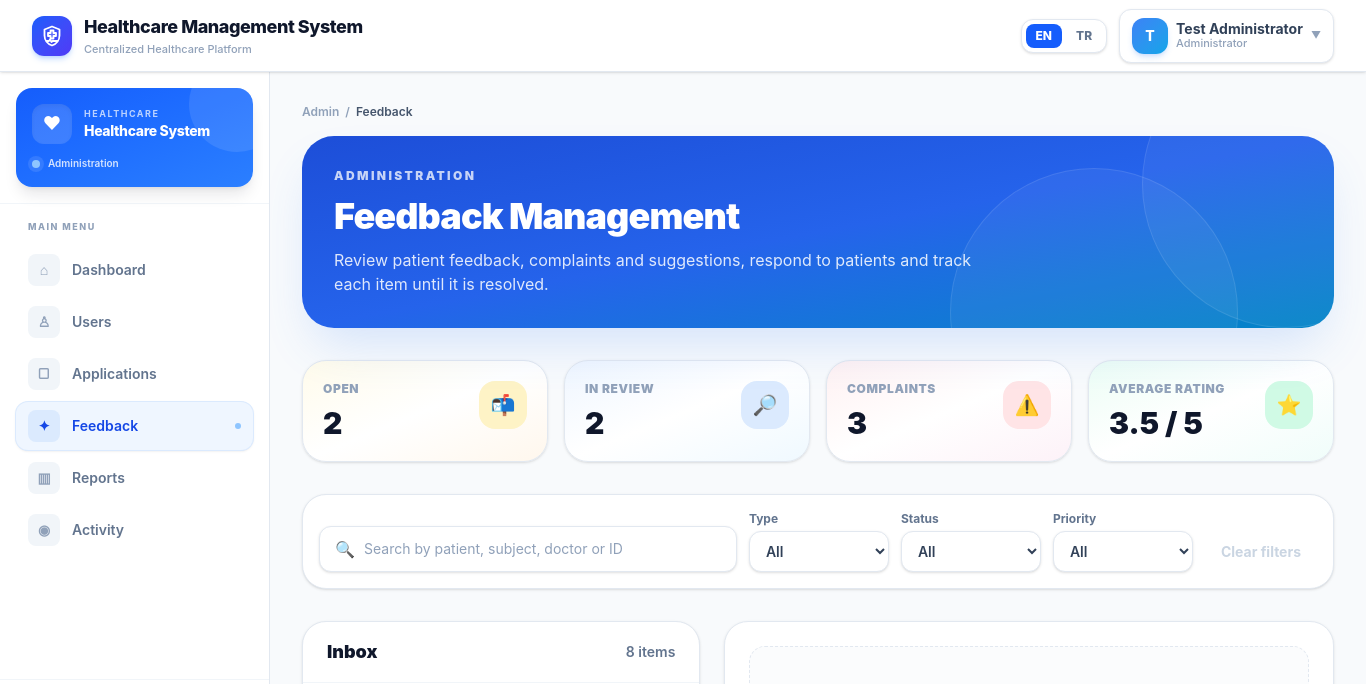
Scenario: W112 feedback management › filters the inbox
Select "Complaint" in the dropdown labelled "Type" at (819, 552), box [749, 531, 889, 572]
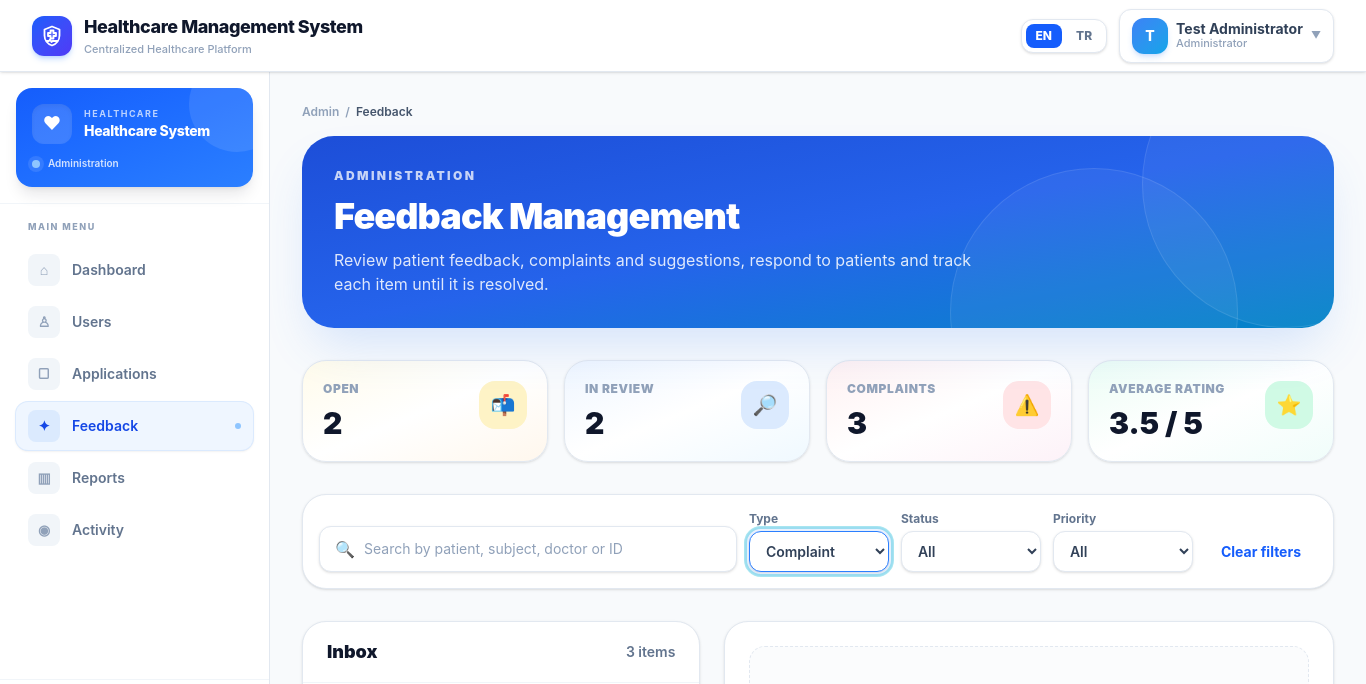
Type "no-such-feedback" into the search field.
click(528, 549); type("no-such-feedback")  # box [319, 526, 737, 572]
(page scrolled)
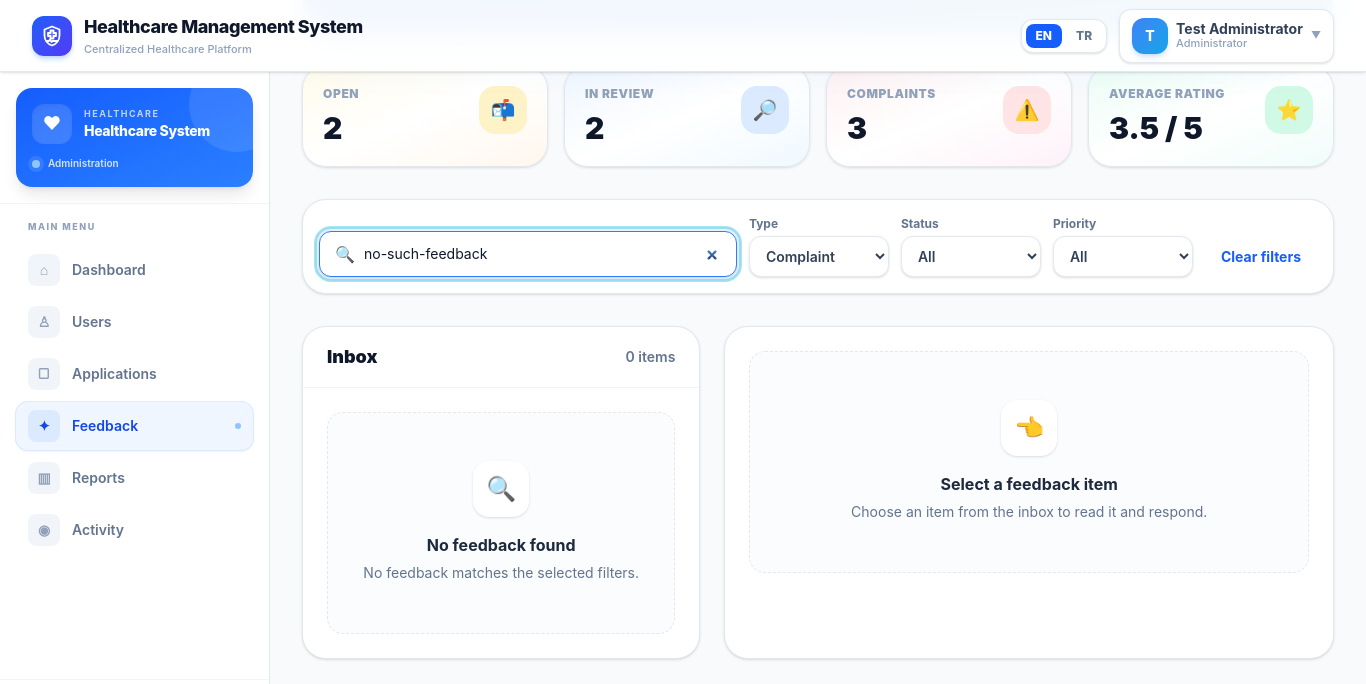
expect the heading "No feedback found" is shown: met, box [427, 533, 576, 557]
